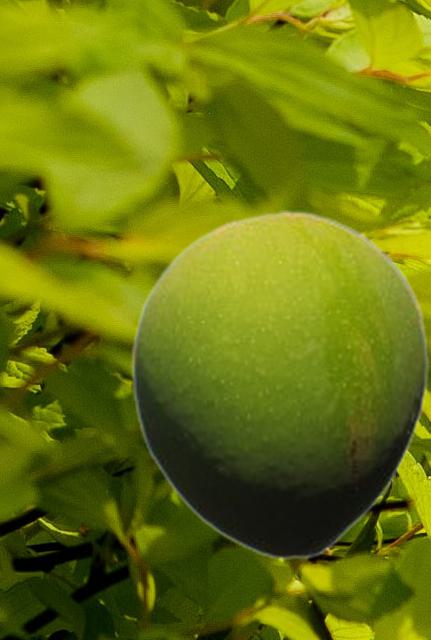green_mango: (130, 210, 429, 560)
